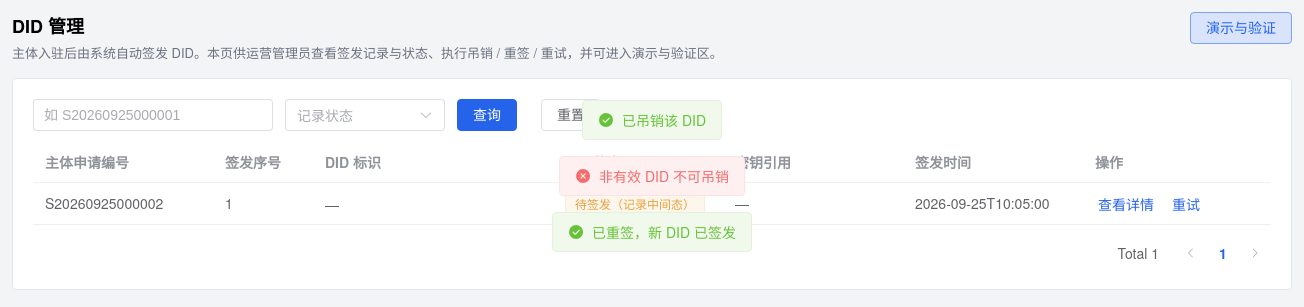
Test: DID 管理页 · 行内操作与详情（WBS-3.1.11 T13） › 重试：二次确认后调重试接口，失败文案（1005B0001）如实展示
Click the button "重试": (1186, 205) [1169,195,1203,215]
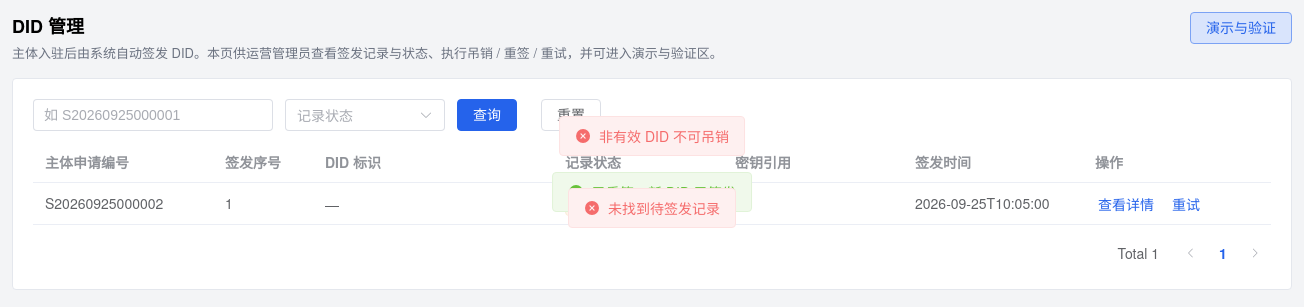
Expected: the text "未找到待签发记录" is shown, [608,201,720,215]
